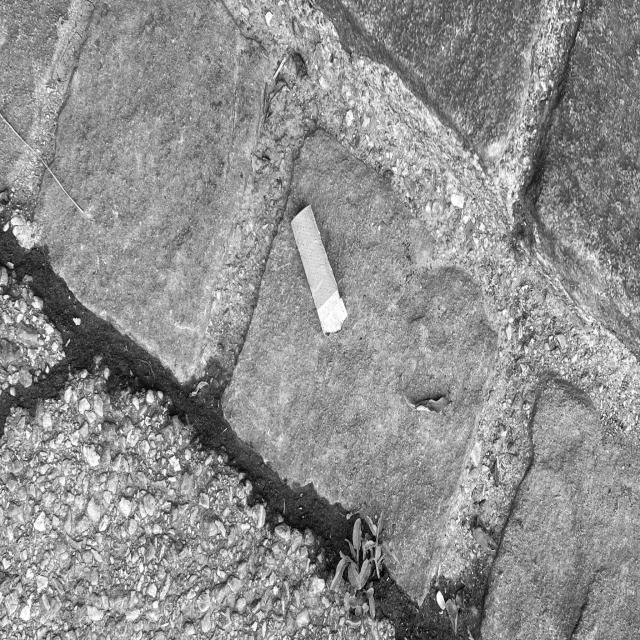other waste: (290, 203, 348, 337)
